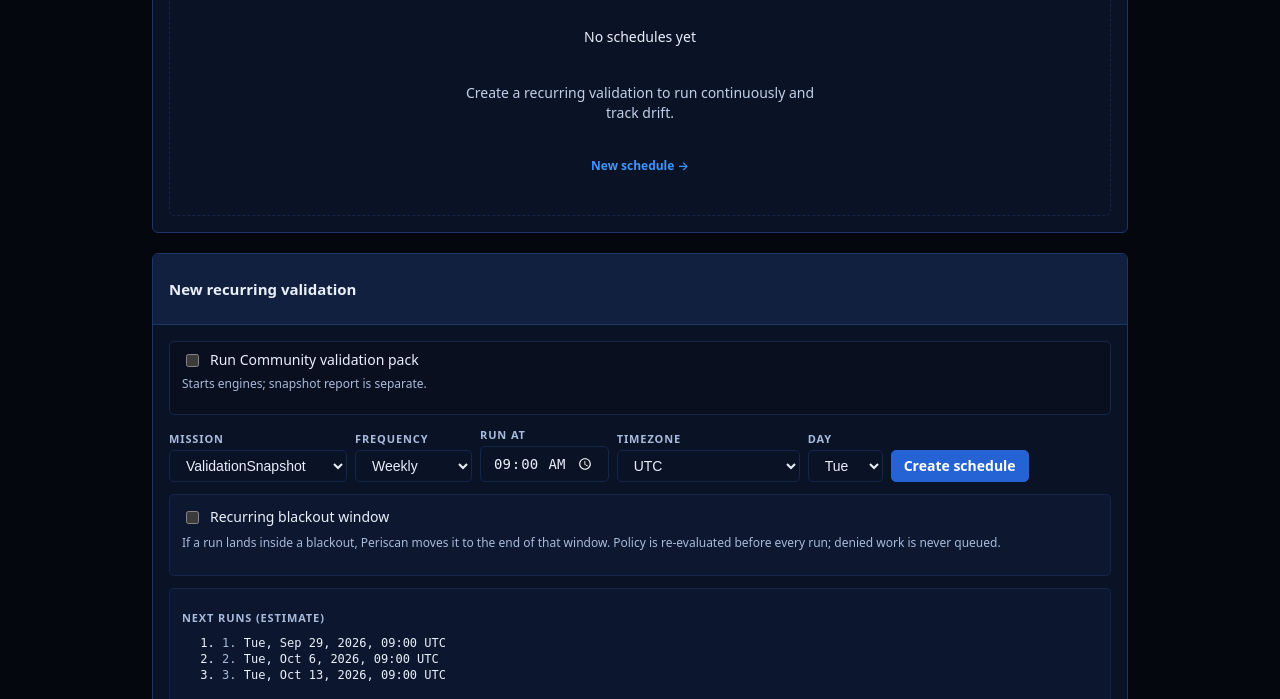
Scenario: SchedulesWorkbench › lets operators opt a ValidationSnapshot schedule into the Community pack
(page scrolled)
Expected: the text "Starts engines; snapshot report is separate." is shown, [182,375,427,392]
Click the checkbox labelled "Run Community validation pack".
click(192, 360)  # box [186,354,199,367]
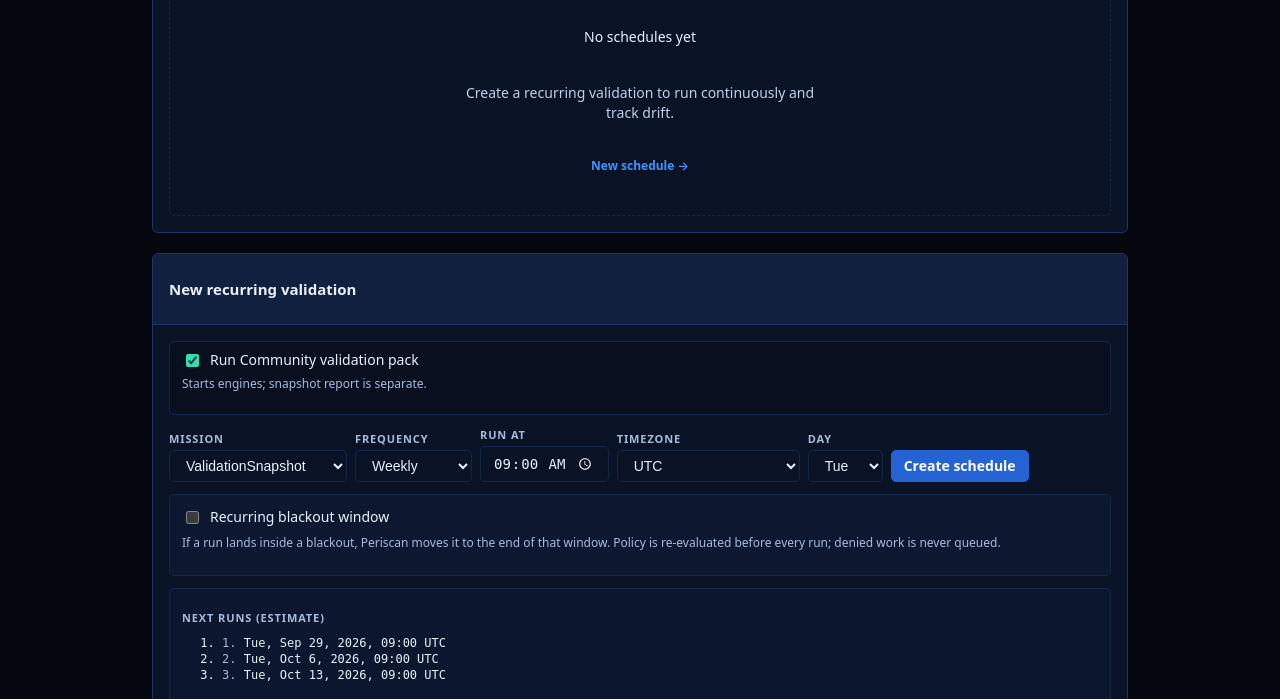
Click the button "Create schedule".
click(960, 466)  # box [891,450,1029,482]
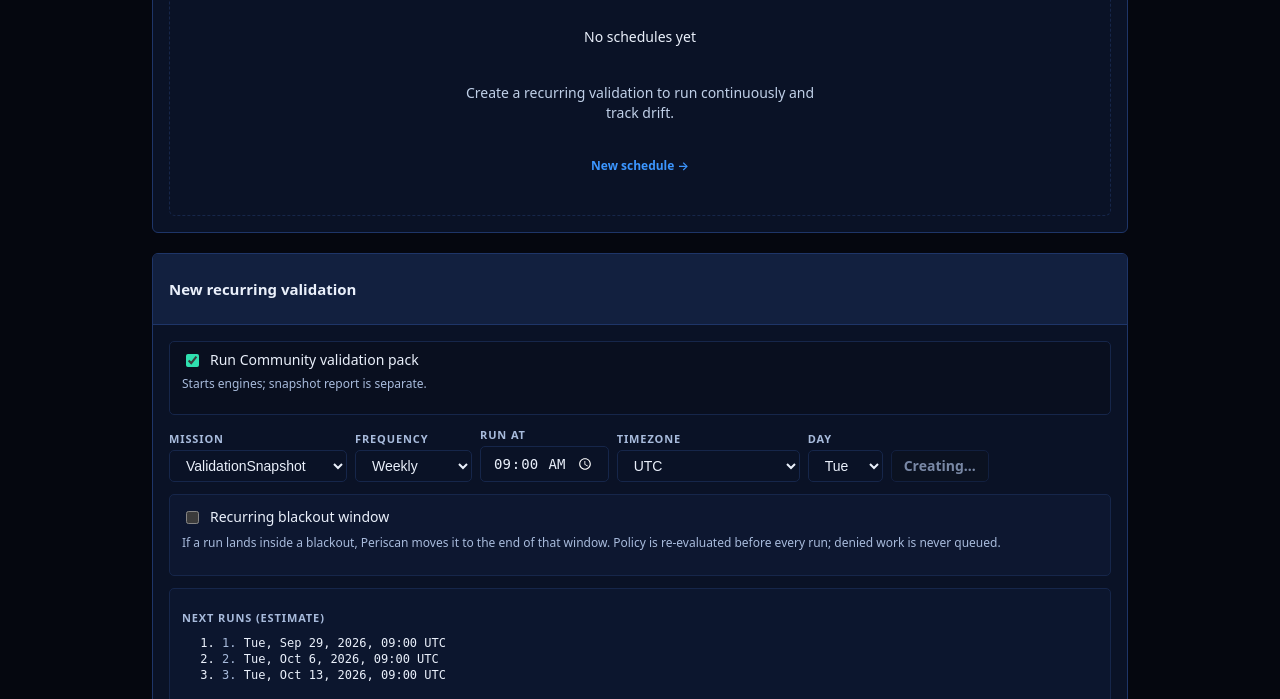
Select "ContinuousValidation" in the dropdown showing "ValidationSnapshot" at (258, 466), box [169,450,347,482]
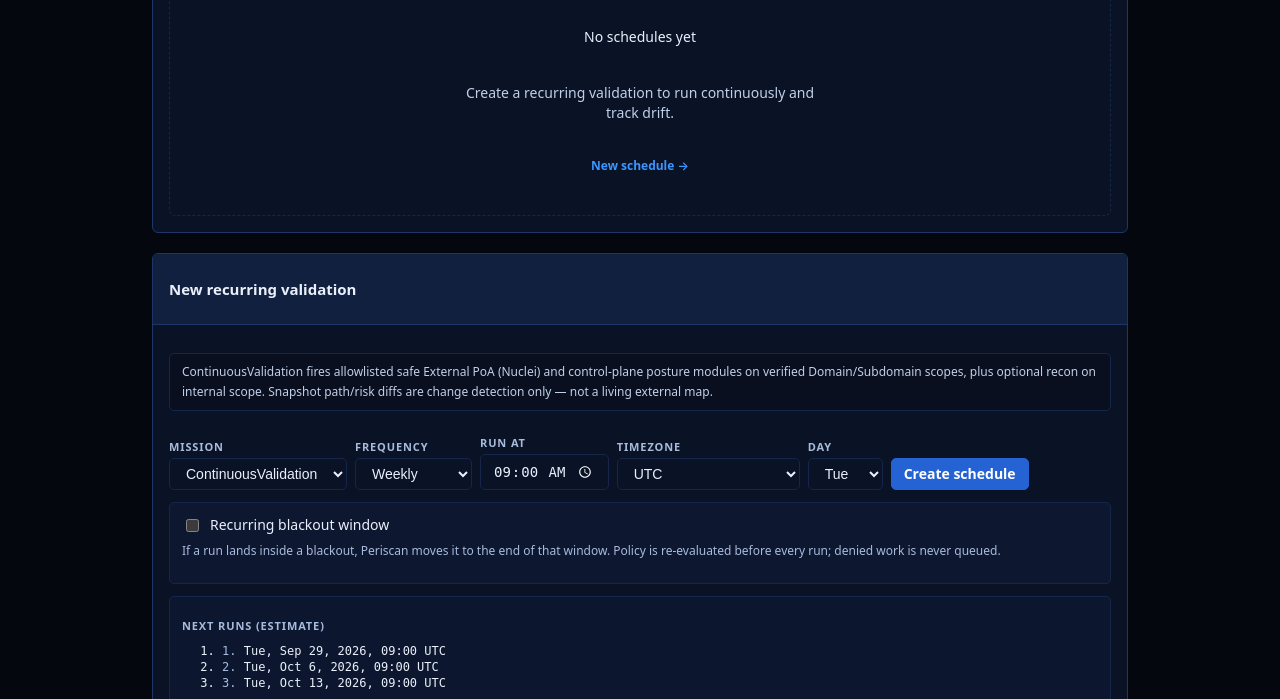
Expected: the label labelled "Run Community validation pack" is gone
